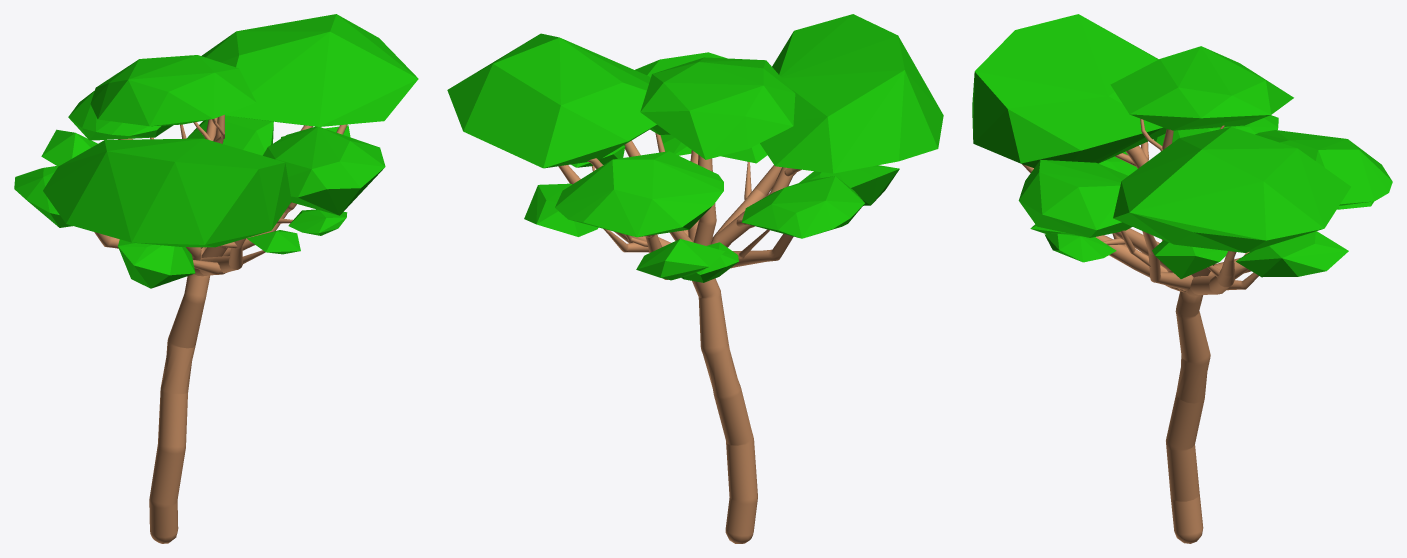
Rendered from tree.glb.
The picture shows the model from 3 angles, left to right: view 1: azimuth 30°, elevation 25°; view 2: azimuth 150°, elevation 25°; view 3: azimuth 270°, elevation 25°; orthographic projection. The views are drawn at different scales.
Parts seen in each view (by area): view 1: Object_2, Object_3; view 2: Object_2, Object_3; view 3: Object_2, Object_3.
Boxes of the visible parts, <box> form: Object_2: <box>14,14,418,288</box>; Object_3: <box>94,114,347,543</box>; Object_2: <box>447,14,943,282</box>; Object_3: <box>558,133,801,543</box>; Object_2: <box>972,14,1392,278</box>; Object_3: <box>1022,118,1258,543</box>.
Size of the model in its own units: 2.26 by 2.52 by 1.99.
